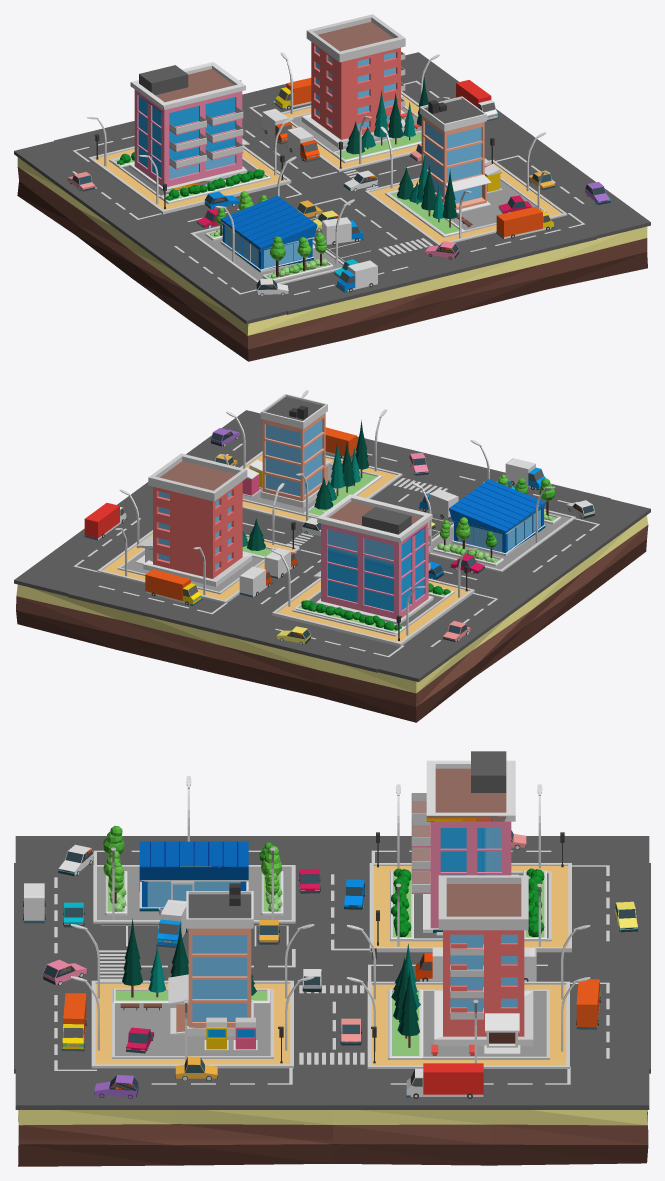
File: city.gltf
3 views of the same model, one above another, from view 1: azimuth 30°, elevation 25°; view 2: azimuth 150°, elevation 25°; view 3: azimuth 270°, elevation 25° (orthographic). The views are drawn at different scales.
Parts seen in each view (by area): view 1: ROAD, Floor_4, House, House_1, House_2, Shop, Floor, Floor_2, ROAD.Lines.12, Floor.4_3, Floor.4_2, Car_08.5 (+14 smaller); view 2: ROAD, Floor_4, House, House_1, House_2, Shop, Floor, ROAD.Lines.12, Floor.4_3, Floor_1, Car_08.3, Floor_2 (+11 smaller); view 3: ROAD, Floor_4, House_1, House, House_2, Shop, Floor_2, Floor_1, Floor, Floor.4_2, ROAD.Lines.12, Floor.4_3 (+25 smaller).
Part boxes in pixels (<box>): ROAD: <box>14,52,650,324</box>; Floor_4: <box>17,157,647,361</box>; House: <box>129,62,249,192</box>; House_1: <box>301,14,405,147</box>; House_2: <box>419,96,491,212</box>; Shop: <box>220,195,317,272</box>; Floor: <box>88,145,291,214</box>; Floor_2: <box>364,159,567,245</box>; ROAD.Lines.12: <box>72,80,584,294</box>; Floor.4_3: <box>190,225,343,284</box>; Floor.4_2: <box>385,177,547,237</box>; Car_08.5: <box>496,206,554,238</box>; ROAD: <box>14,410,650,681</box>; Floor_4: <box>16,515,648,722</box>; House: <box>313,494,433,624</box>; House_1: <box>135,453,252,586</box>; House_2: <box>260,394,332,507</box>; Shop: <box>449,479,545,556</box>; Floor: <box>272,578,474,646</box>; ROAD.Lines.12: <box>73,443,599,657</box>; Floor.4_3: <box>428,509,575,572</box>; Floor_1: <box>97,530,299,603</box>; Car_08.3: <box>145,569,202,605</box>; Floor_2: <box>240,451,402,523</box>; ROAD: <box>14,836,650,1109</box>; Floor_4: <box>18,1110,648,1166</box>; House_1: <box>434,875,533,1054</box>; House: <box>411,751,518,935</box>; House_2: <box>168,883,253,1036</box>; Shop: <box>139,841,248,911</box>; Floor_2: <box>91,980,293,1068</box>; Floor_1: <box>367,981,569,1068</box>; Floor: <box>369,863,571,952</box>; Floor.4_2: <box>112,989,273,1058</box>; ROAD.Lines.12: <box>54,850,609,1084</box>; Floor.4_3: <box>93,865,295,923</box>.
Bounding box in the file's own units: 2192 × 744 × 2192.
Materials: 1 (1 with a texture image).
